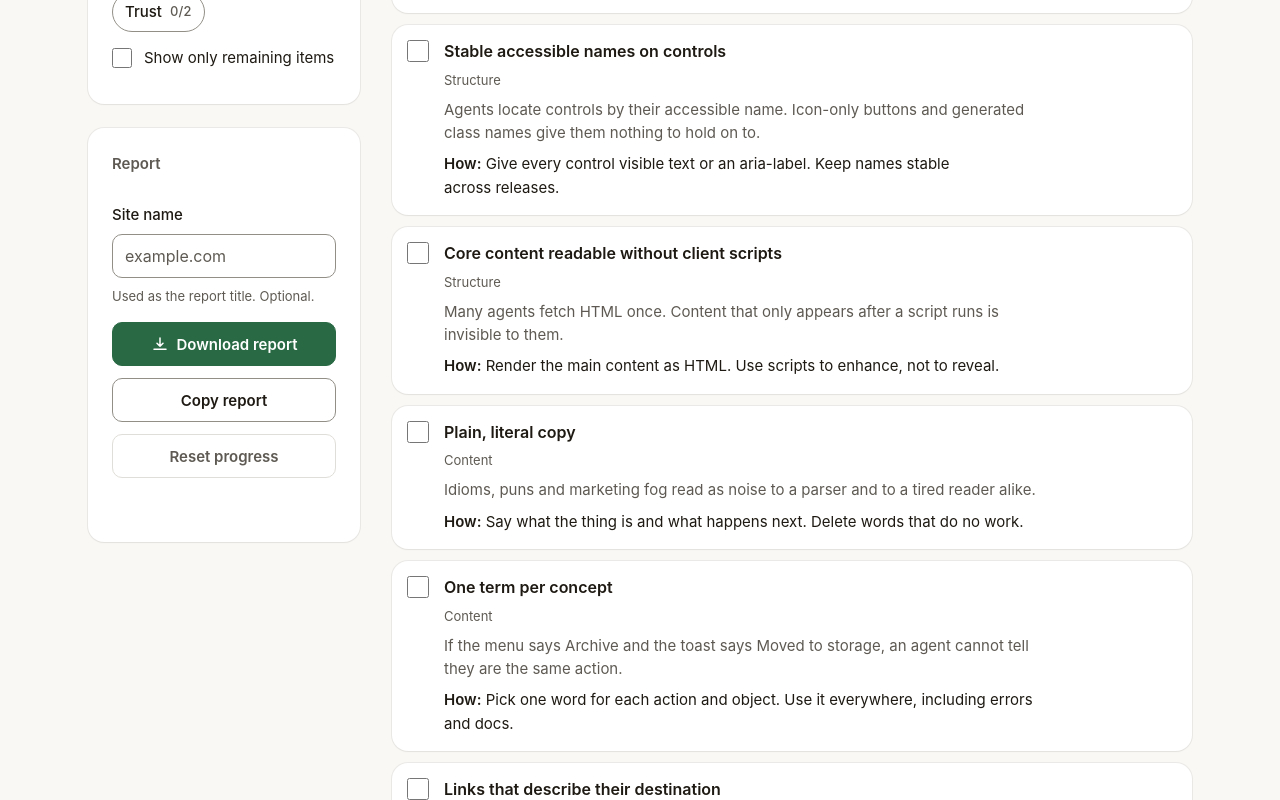
Test: App › copies the report and reports the outcome
(page scrolled)
Click the button "Copy report": (224, 400) [112,378,336,422]
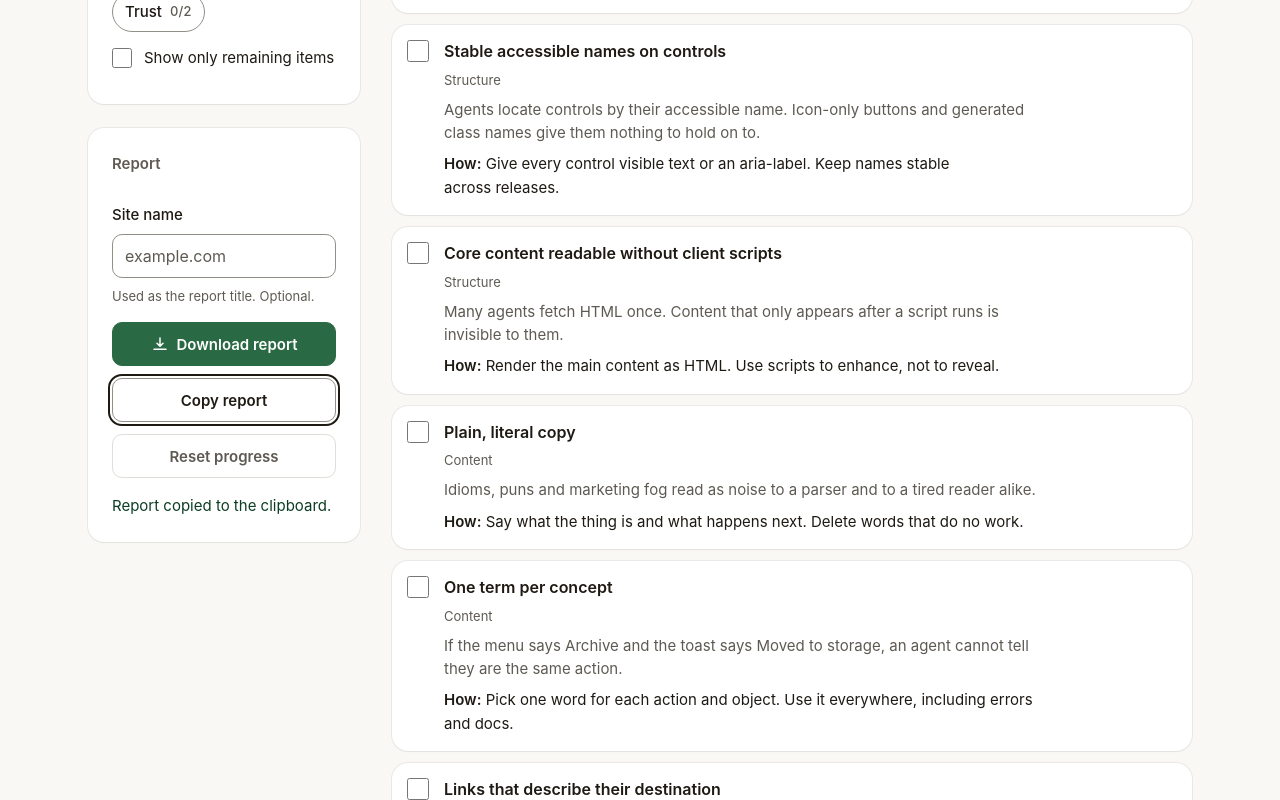
Expected: the text "Report copied to the clipboard." is shown, [112,494,336,518]
